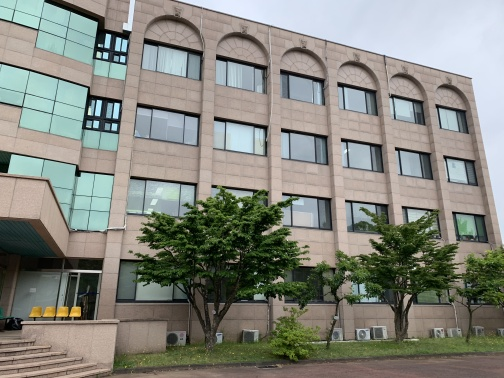Natural Science2: (12, 1, 487, 337)
